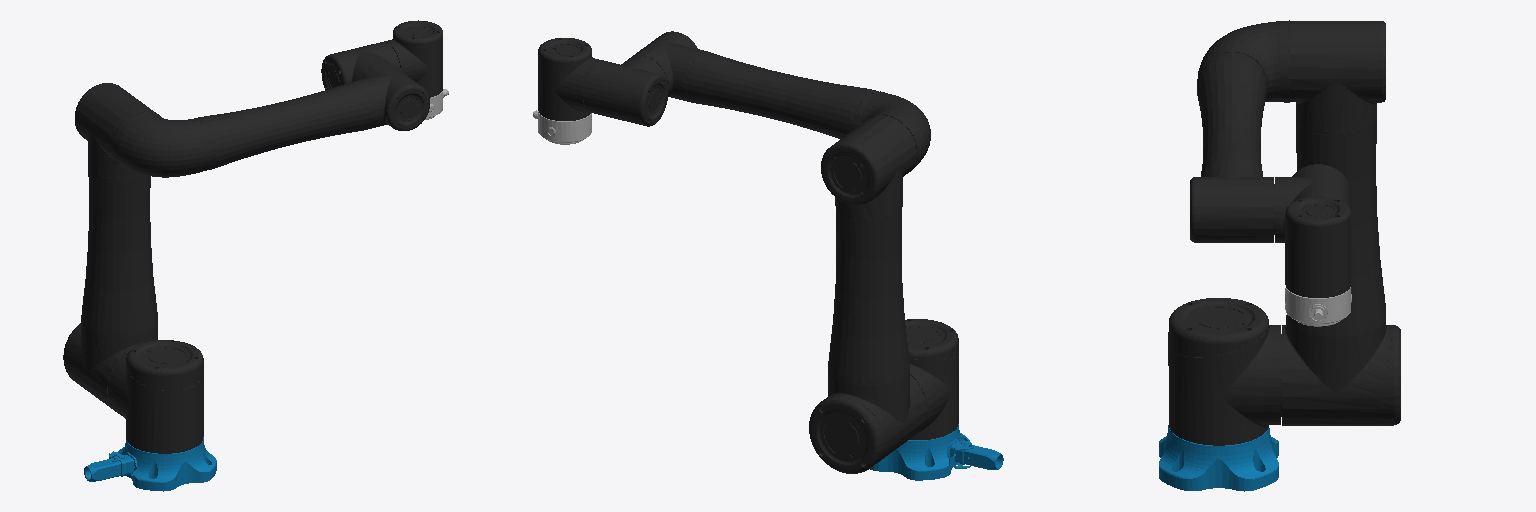
URDF robot description (orion5_v166):
<?xml version="1.0" ?>

<robot name="orion5_v166">

  <link name="world"/>

  <joint name="world_fixed_joint" type="fixed">
    <origin rpy="0 0 0" xyz="0.0 0.0 0.0"/>
    <parent link="world"/>
    <child link="base_link"/>
  </joint>

  <material name="black">
    <color rgba="0.2 0.2 0.2 1.0"/>
  </material>
  <material name="gray">
    <color rgba="0.7 0.7 0.7 1.0"/>
  </material>
  <material name="blue">
    <color rgba="0.1 0.5 0.7 1.0"/>
  </material>

  <link name="base_link">
    <inertial>
      <origin rpy="0 0 3.92699081" xyz="0.0014872 0.025681 0.0015954"/>
      <mass value="0.43234"/>
      <inertia ixx="0.00085424" ixy="-4.256E-07" ixz="1.7204E-05" iyy="0.0014489" iyz="-3.1849E-07" izz="0.00085002"/>
    </inertial>
    <visual>
      <origin rpy="0 0 3.92699081" xyz="0 0 0"/>
      <geometry>
        <mesh filename="package://orion5_description/meshes/base_link.STL"/>
      </geometry>
      <material name="blue">
      </material>
    </visual>
    <collision>
      <origin rpy="0 0 3.92699081" xyz="0 0 0"/>
      <geometry>
        <mesh filename="package://orion5_description/meshes/base_link.STL"/>
      </geometry>
    </collision>
  </link>

  <joint name="joint_1" type="revolute">
    <origin rpy="0 0 0.7853981" xyz="0 0 0.05375"/>
    <parent link="base_link"/>
    <child link="link_1"/>
    <axis xyz="0 0 1"/>
    <limit effort="200" lower="-3.14" upper="3.14" velocity="1.57"/>
  </joint>

  <link name="link_1">
    <inertial>
      <origin rpy="0 0 0" xyz="0.0032053 0.0032066 0.071258"/>
      <mass value="1.4977"/>
      <inertia ixx="0.0040548" ixy="-6.3827e-05" ixz="1.9488e-05" iyy="0.0040547" iyz="1.9457e-05" izz="0.003024"/>
    </inertial>
    <visual>
      <origin rpy="0 0 0" xyz="0 0 0"/>
      <geometry>
        <mesh filename="package://orion5_description/meshes/link_1.STL"/>
      </geometry>
      <material name="black">
      </material>
    </visual>
    <collision>
      <origin rpy="0 0 0" xyz="0 0 0"/>
      <geometry>
        <mesh filename="package://orion5_description/meshes/link_1.STL"/>
      </geometry>
    </collision>
  </link>

  <joint name="joint_2" type="revolute">
    <origin rpy="-1.5708 0 -0.7854" xyz="0.044371 0.044371 0.06825"/>
    <parent link="link_1"/>
    <child link="link_2"/>
    <axis xyz="0 0 -1"/>
    <limit effort="200" lower="-1.57079" upper="1.57079" velocity="1.57"/>
  </joint>

  <link name="link_2">
    <inertial>
      <origin rpy="0 0 0" xyz="-0.011965 -0.20398 0.082482"/>
      <mass value="3.9537"/>
      <inertia ixx="0.14571" ixy="0.0011447" ixz="-8.9776e-05" iyy="0.0068268" iyz="-0.00039373" izz="0.14325"/>
    </inertial>
    <visual>
      <origin rpy="0 0 0" xyz="0 0 0"/>
      <geometry>
        <mesh filename="package://orion5_description/meshes/link_2.STL"/>
      </geometry>
      <material name="black">
      </material>
    </visual>
    <collision>
      <origin rpy="0 0 0" xyz="0 0 0"/>
      <geometry>
        <mesh filename="package://orion5_description/meshes/link_2.STL"/>
      </geometry>
    </collision>
  </link>

  <joint name="joint_3" type="revolute">
    <origin rpy="-3.1416 0 1.57079" xyz="0 -0.421 0.02325"/>
    <parent link="link_2"/>
    <child link="link_3"/>
    <axis xyz="0 0 1"/>
    <limit effort="200" lower="-1.2217" upper="4.36332" velocity="1.57"/>
  </joint>

  <link name="link_3">
    <inertial>
      <origin rpy="0 0 0" xyz="-0.0003235 0.25691 0.062797"/>
      <mass value="1.0868"/>
      <inertia ixx="0.0084673" ixy="-4.0465e-05" ixz="-1.4163e-06" iyy="0.0014603" iyz="-0.00016568" izz="0.0081904"/>
    </inertial>
    <visual>
      <origin rpy="0 0 0" xyz="0 0 0"/>
      <geometry>
        <mesh filename="package://orion5_description/meshes/link_3.STL"/>
      </geometry>
      <material name="black">
      </material>
    </visual>
    <collision>
      <origin rpy="0 0 0" xyz="0 0 0"/>
      <geometry>
        <mesh filename="package://orion5_description/meshes/link_3.STL"/>
      </geometry>
    </collision>
  </link>

  <joint name="joint_4" type="revolute">
    <origin rpy="-3.1416 0 0" xyz="0 0.427 0.018"/>
    <parent link="link_3"/>
    <child link="link_4"/>
    <axis xyz="0 0 -1"/>
    <limit effort="200" lower="-3.14" upper="3.14" velocity="1.57"/>
  </joint>

  <link name="link_4">
    <inertial>
      <origin rpy="0 0 0" xyz="0.00067229 -0.010802 0.051025"/>
      <mass value="0.50427"/>
      <inertia ixx="0.00065514" ixy="-1.9544e-06" ixz="1.7674e-07" iyy="0.00043345" iyz="2.2995e-06" izz="0.00063832"/>
    </inertial>
    <visual>
      <origin rpy="0 0 0" xyz="0 0 0"/>
      <geometry>
        <mesh filename="package://orion5_description/meshes/link_4.STL"/>
      </geometry>
      <material name="black">
      </material>
    </visual>
    <collision>
      <origin rpy="0 0 0" xyz="0 0 0"/>
      <geometry>
        <mesh filename="package://orion5_description/meshes/link_4.STL"/>
      </geometry>
    </collision>
  </link>

  <joint name="joint_5" type="revolute">
    <origin rpy="1.5708 0.785396 0" xyz="0 -0.052 0.053"/>
    <parent link="link_4"/>
    <child link="link_5"/>
    <axis xyz="0 0 1"/>
    <limit effort="200" lower="-3.14" upper="3.14" velocity="1.57"/>
  </joint>

  <link name="link_5">
    <inertial>
      <origin rpy="0 0 0" xyz="-0.0023932 -0.0027963 0.046475"/>
      <mass value="0.23998"/>
      <inertia ixx="0.00019279" ixy="-1.1587e-05" ixz="1.866e-06" iyy="0.00019279" iyz="1.7368e-06" izz="0.00019816"/>
    </inertial>
    <visual>
      <origin rpy="0 0 0" xyz="0 0 0"/>
      <geometry>
        <mesh filename="package://orion5_description/meshes/link_5.STL"/>
      </geometry>
      <material name="black">
      </material>
    </visual>
    <collision>
      <origin rpy="0 0 0" xyz="0 0 0"/>
      <geometry>
        <mesh filename="package://orion5_description/meshes/link_5.STL"/>
      </geometry>
    </collision>
  </link>

  <joint name="joint_6" type="revolute">
    <origin rpy="-1.5708 0 -0.7854" xyz="0.031289 0.031289 0.053"/>
    <parent link="link_5"/>
    <child link="link_6"/>
    <axis xyz="0 0 1"/>
    <limit effort="200" lower="-3.14" upper="3.14" velocity="1.57"/>
  </joint>

  <link name="link_6">
    <inertial>
      <origin rpy="0 0 0" xyz="-0.00030609 -0.00064718 0.026501"/>
      <mass value="0.29836"/>
      <inertia ixx="9.0087e-05" ixy="2.945e-08" ixz="-1.0412e-07" iyy="8.7872e-05" iyz="-9.2359e-08" izz="0.00013295"/>
    </inertial>
    <visual>
      <origin rpy="0 0 0" xyz="0 0 0"/>
      <geometry>
        <mesh filename="package://orion5_description/meshes/link_6.STL"/>
      </geometry>
      <material name="gray">
      </material>
    </visual>
    <collision>
      <origin rpy="0 0 0" xyz="0 0 0"/>
      <geometry>
        <mesh filename="package://orion5_description/meshes/link_6.STL"/>
      </geometry>
    </collision>
  </link>


</robot>

--- Facts derived from the render (not from the file) ---
Views: 3 orthographic renders of the robot side by side, from view 1: azimuth 30°, elevation 25°; view 2: azimuth 150°, elevation 25°; view 3: azimuth 270°, elevation 25°.
Robot: orion5_v166 — 8 links, 7 joints (6 revolute, 1 fixed); root link world; default pose: every joint at zero.
Visible links, largest first — view 1: link_2, link_3, link_1, base_link, link_5, link_4; view 2: link_2, link_3, link_1, link_4, link_5, base_link, link_6; view 3: link_2, link_3, link_1, link_5, base_link, link_4, link_6.
Boxes of the visible links, <box> form: link_2: <box>63,83,157,413</box>; link_3: <box>110,62,429,177</box>; link_1: <box>108,340,203,453</box>; base_link: <box>84,437,216,491</box>; link_5: <box>384,20,442,97</box>; link_4: <box>321,42,400,89</box>; link_2: <box>809,115,926,473</box>; link_3: <box>629,31,930,173</box>; link_1: <box>905,319,958,439</box>; link_4: <box>583,56,667,126</box>; link_5: <box>538,38,599,120</box>; base_link: <box>870,424,1003,480</box>; link_6: <box>533,110,591,144</box>; link_2: <box>1281,21,1400,425</box>; link_3: <box>1190,20,1289,242</box>; link_1: <box>1168,298,1280,445</box>; link_5: <box>1285,196,1350,297</box>; base_link: <box>1159,425,1278,491</box>; link_4: <box>1275,164,1350,242</box>; link_6: <box>1285,287,1351,326</box>.
Bounding box of the posed robot: 0.7256 × 0.2948 × 0.5939 m (x, y, z).
7 mesh visuals loaded from 7 distinct referenced files (7 binary STL).
